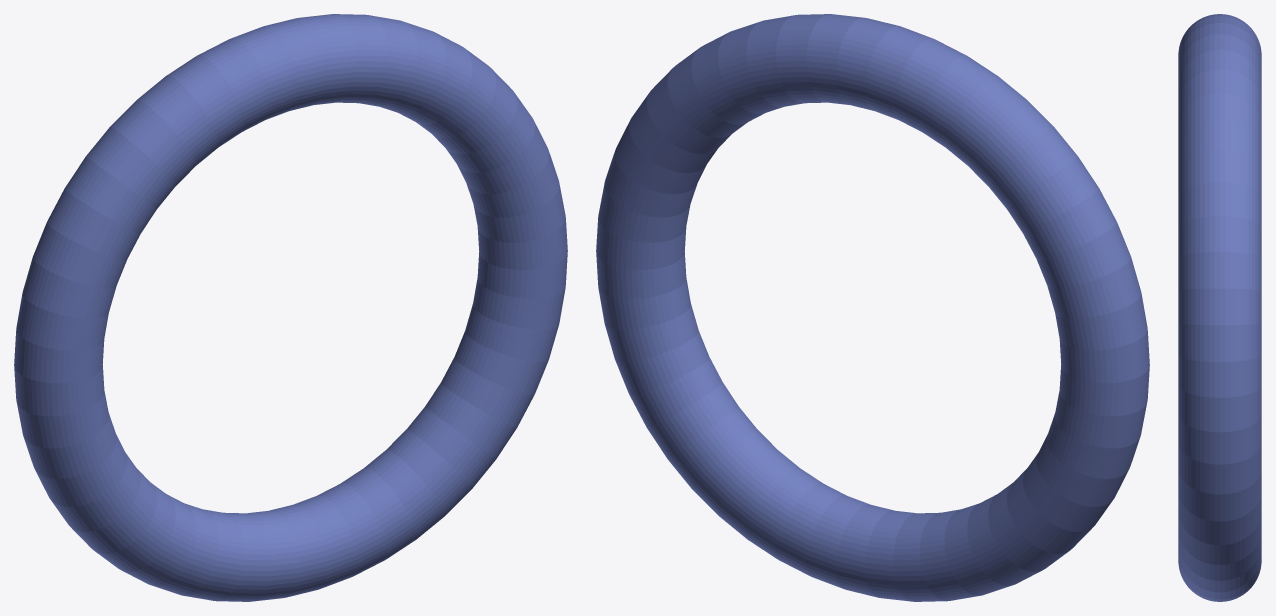
The picture shows the model from 3 angles, left to right: view 1: azimuth 30°, elevation 25°; view 2: azimuth 150°, elevation 25°; view 3: azimuth 270°, elevation 25°; orthographic projection. The views are drawn at different scales.
Visible parts, largest first — view 1: world; view 2: world; view 3: world.
Part boxes in pixels (x1,y1,x2,y2): world: (14,14,567,601); world: (596,14,1149,601); world: (1178,14,1261,601).
Bounding box in the file's own units: 17.87 × 17.83 × 2.53.
